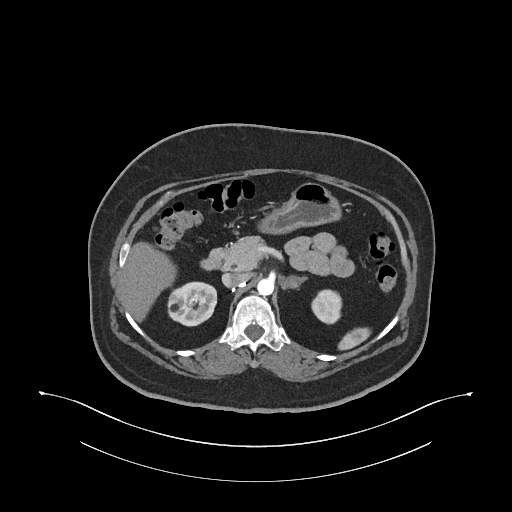Lesion: (168, 302, 182, 318)
